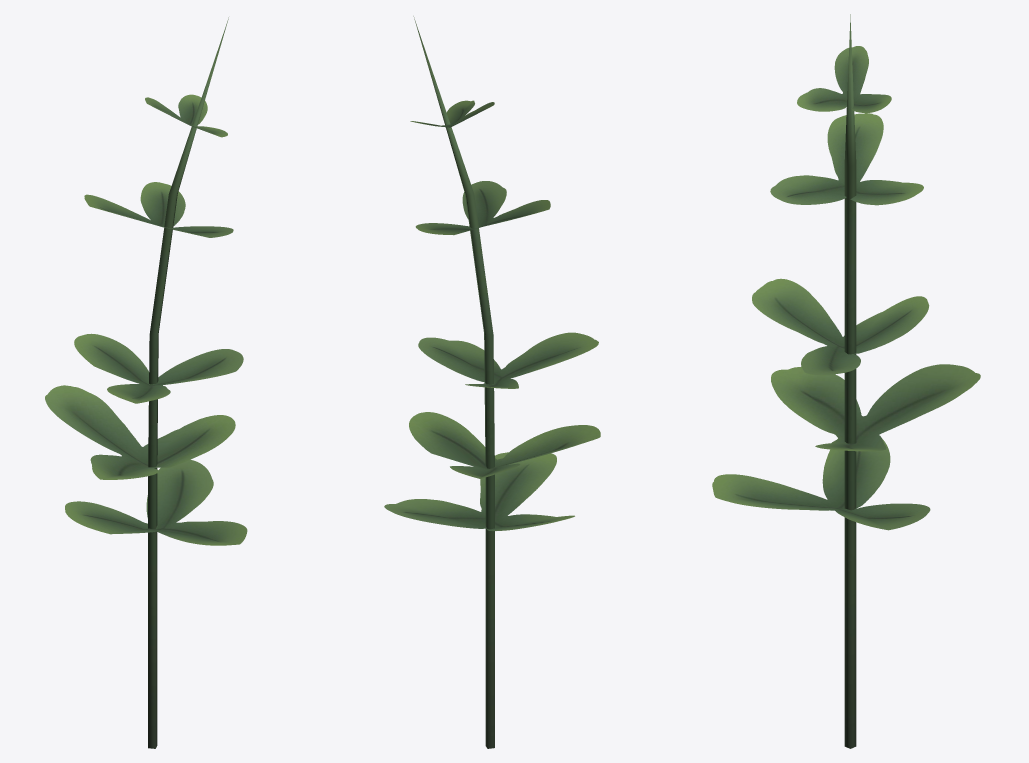
The model's file is bunga hiasan4.fbx.
The picture shows the model from 3 angles, left to right: view 1: azimuth 30°, elevation 25°; view 2: azimuth 150°, elevation 25°; view 3: azimuth 270°, elevation 25°; orthographic projection. The views are drawn at different scales.
Visible parts, largest first — view 1: Object_16.001; view 2: Object_16.001; view 3: Object_16.001.
Boxes of the visible parts, left/top/right/bottom form: Object_16.001: left=45, top=17, right=247, bottom=748; Object_16.001: left=384, top=16, right=600, bottom=748; Object_16.001: left=712, top=14, right=980, bottom=748.
Bounding box in the file's own units: 252 × 684 × 263.
Materials: 1 (1 with a texture image).
